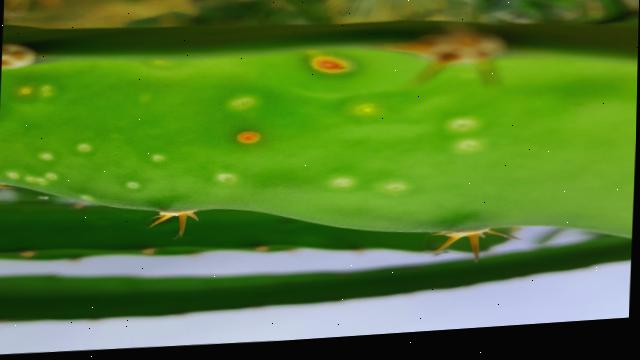stemcanker: (4, 43, 39, 71), (307, 56, 352, 75), (232, 127, 263, 148)
